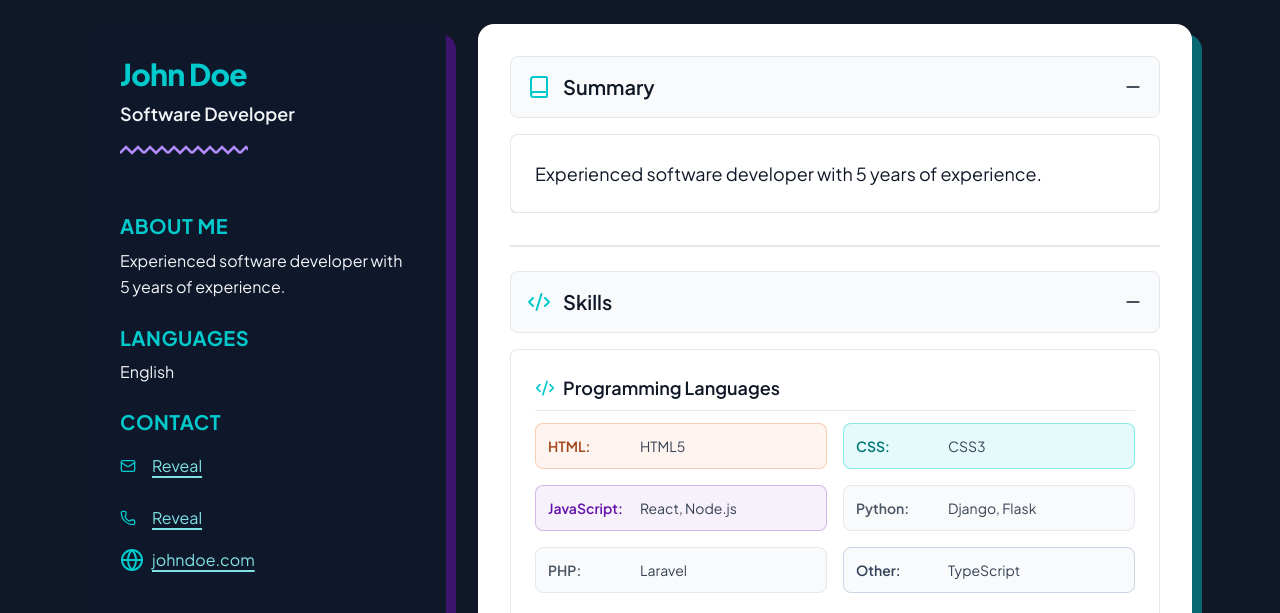
Resume › closes the email modal on Escape without the event reaching outer listeners
Click the button with aria-label "reveal email address" at (177, 466), box [144,444,210,488]
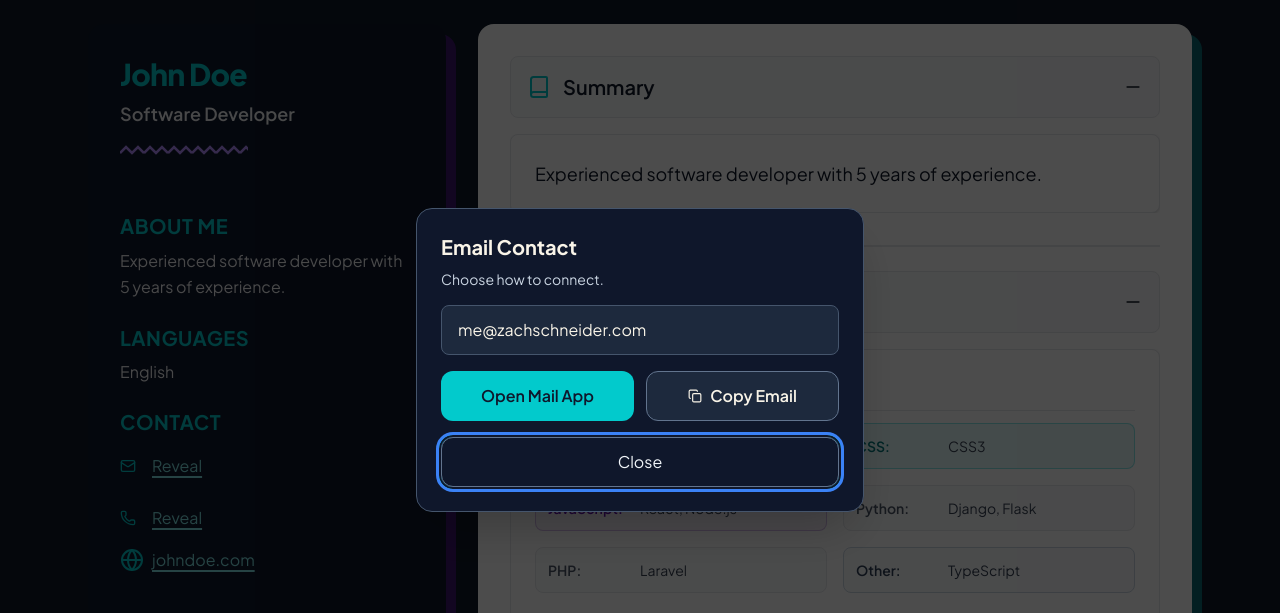
Result: the dialog is shown at [416,208,864,512]
Press Escape
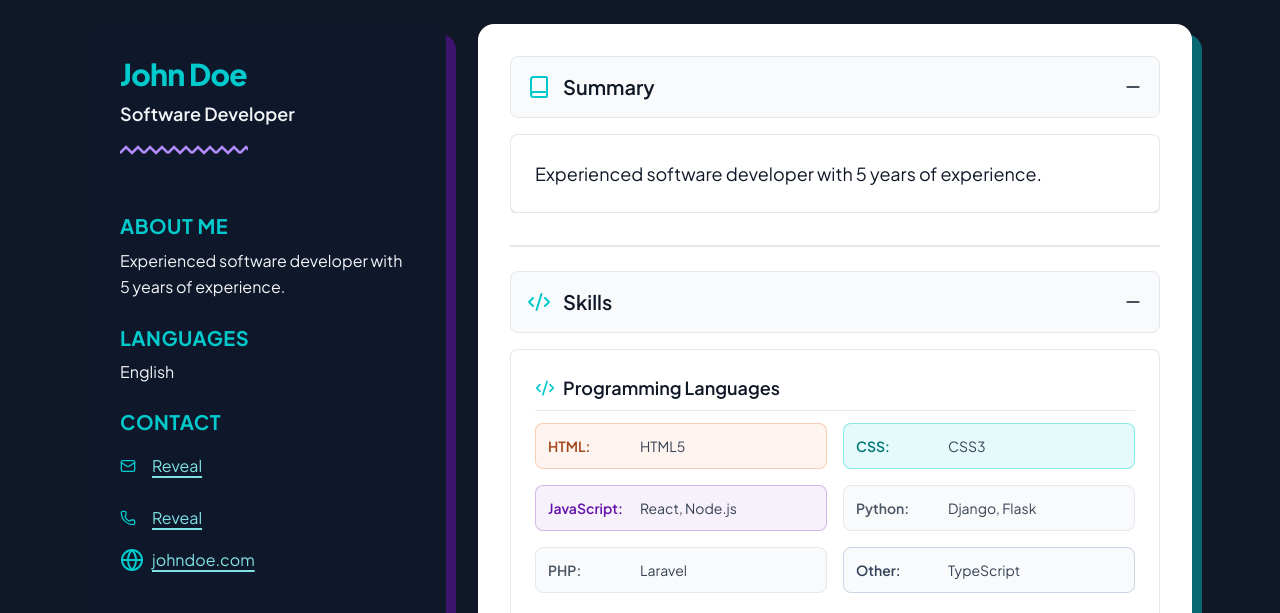
Result: the dialog is gone
